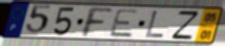5: (24, 5, 54, 38), (53, 7, 76, 37)
E: (108, 8, 141, 39)
F: (81, 6, 115, 38)
L: (144, 10, 166, 39)
Z: (170, 10, 201, 41)
